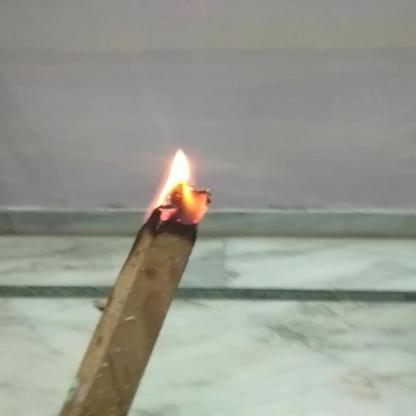fire: (140, 146, 220, 221)
